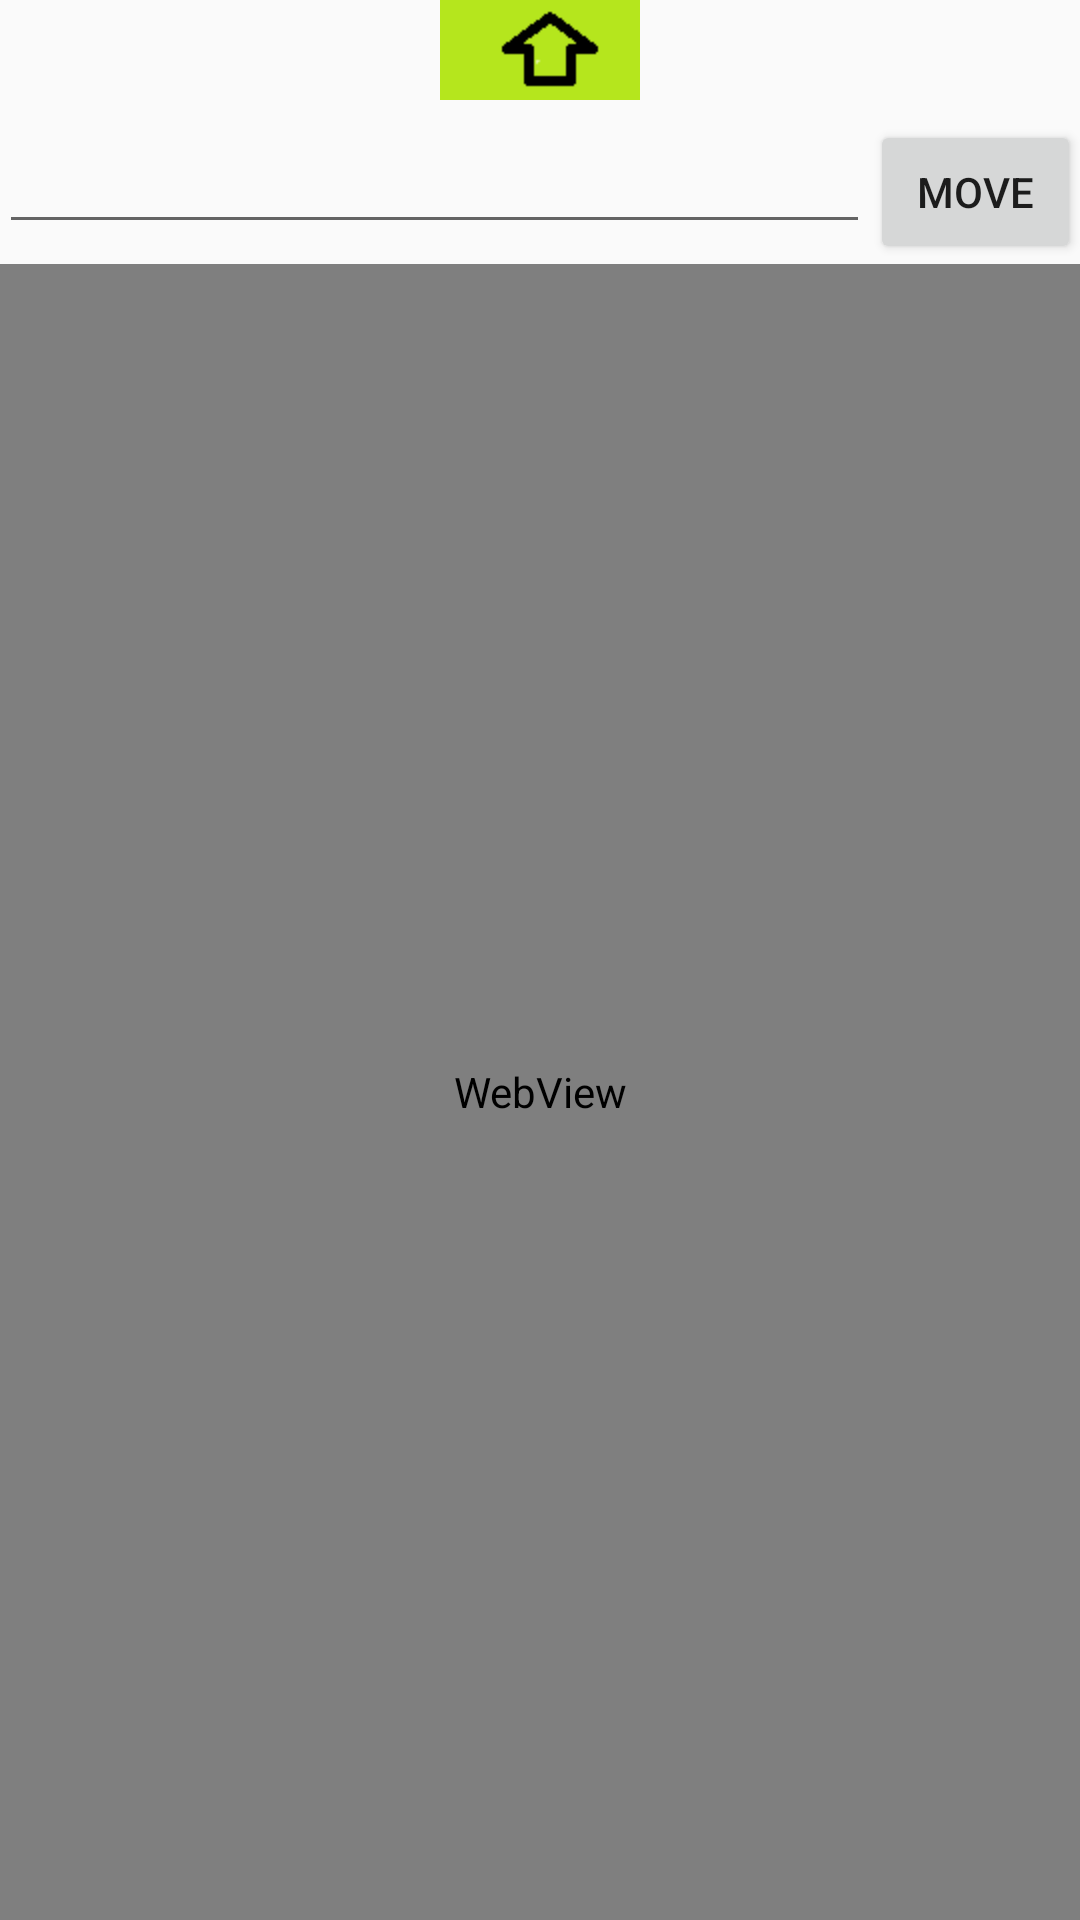

Icons on this 1080x1920 Android screen, each with the point to tap as (x=x, y=y):
uphandle: (x=540, y=50)
